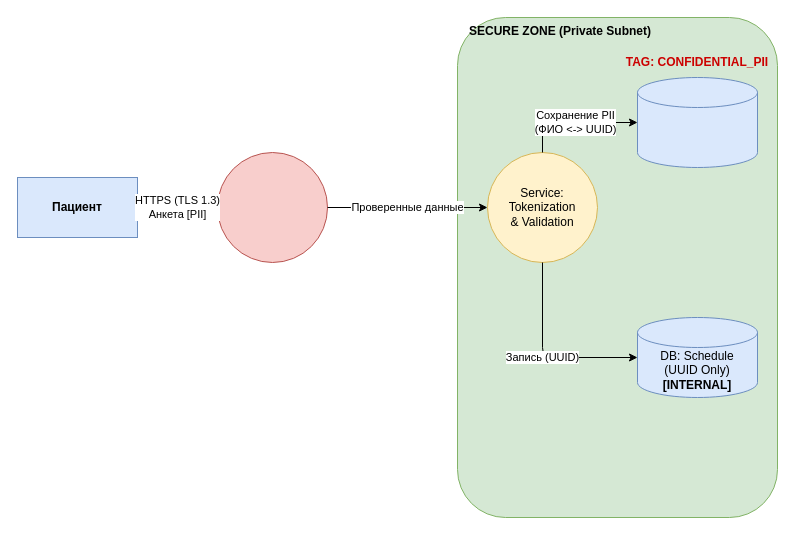
This 795x535 diagram has some shape labels left out. The shapes that lost their labels are listed below. From the top down, each one's centre as x and y in pixels, then its label:
At point (697, 122): "DB: PostgreSQL [CONFIDENTIAL_PII] AES-256 Encrypted".
At point (272, 207): "API Gateway (Auth & WAF)".
